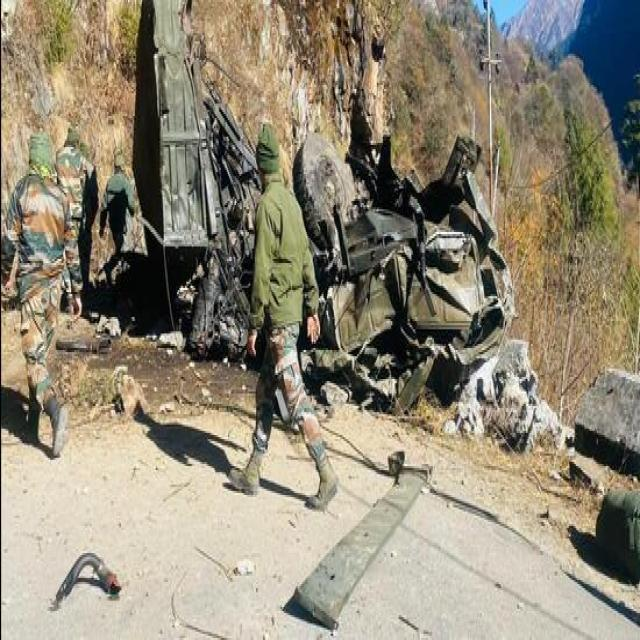accident: (293, 111, 514, 408), (134, 0, 260, 357)
